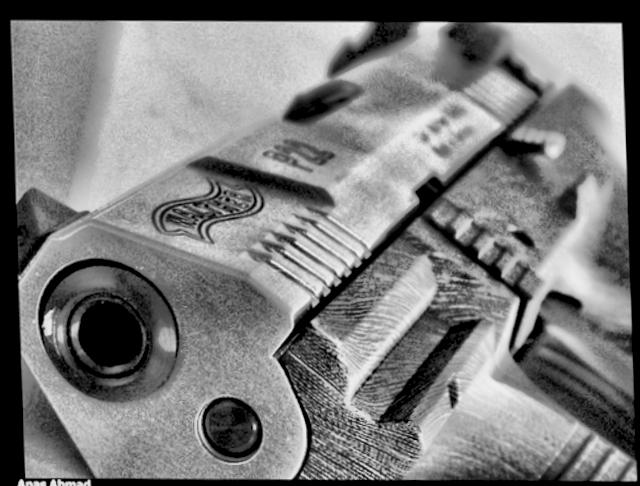pistol: (7, 6, 633, 486)
